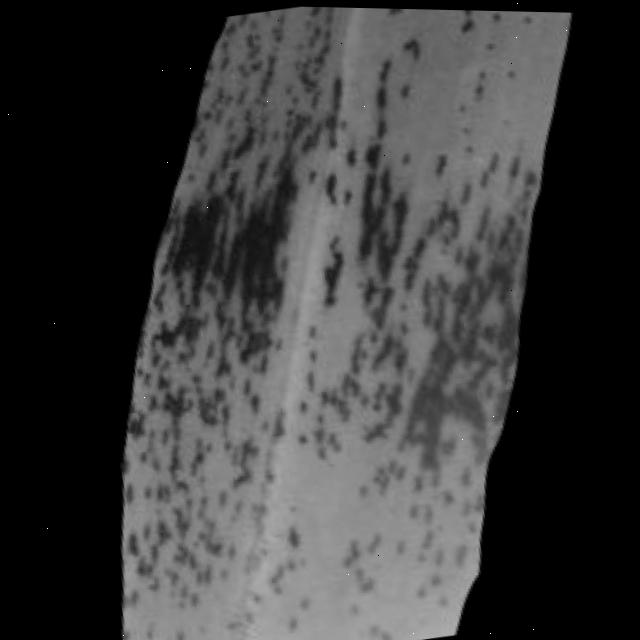mite: (382, 7, 500, 62), (395, 31, 421, 58), (382, 7, 406, 15)
spots: (1, 5, 640, 640)
